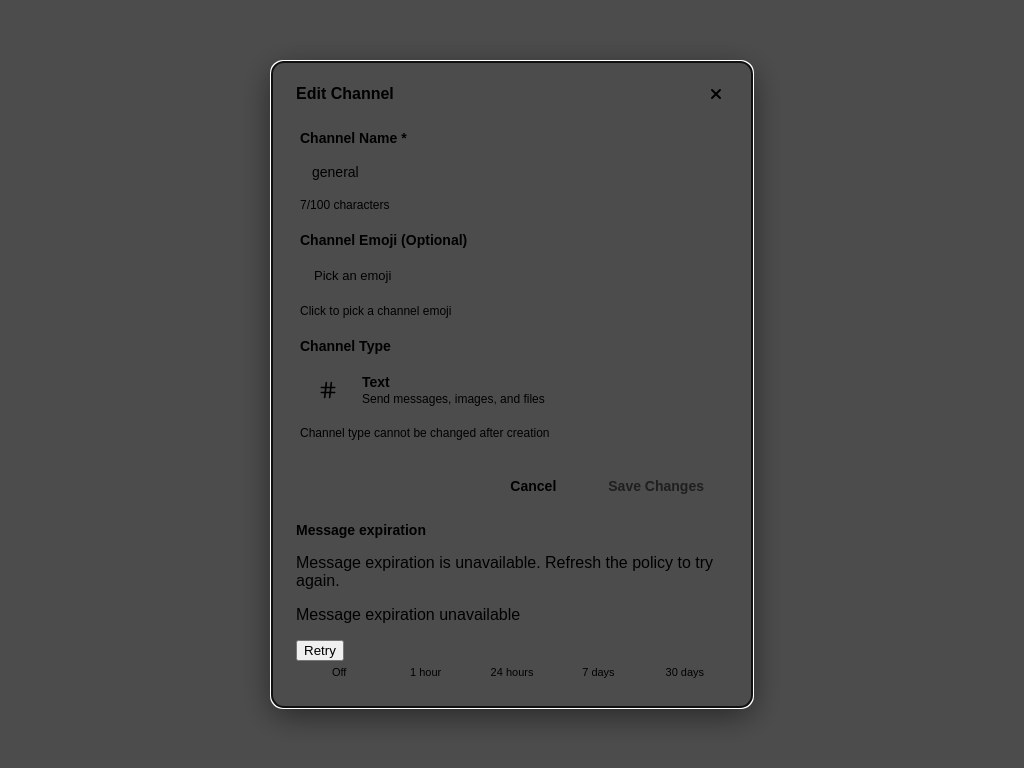
Test: EditChannelModal › shows error on API failure
This screenshot has width=1024, height=768.
Replace the text in the field showing "general" with "new-name": coordinates (512, 172) [300, 154, 724, 190]
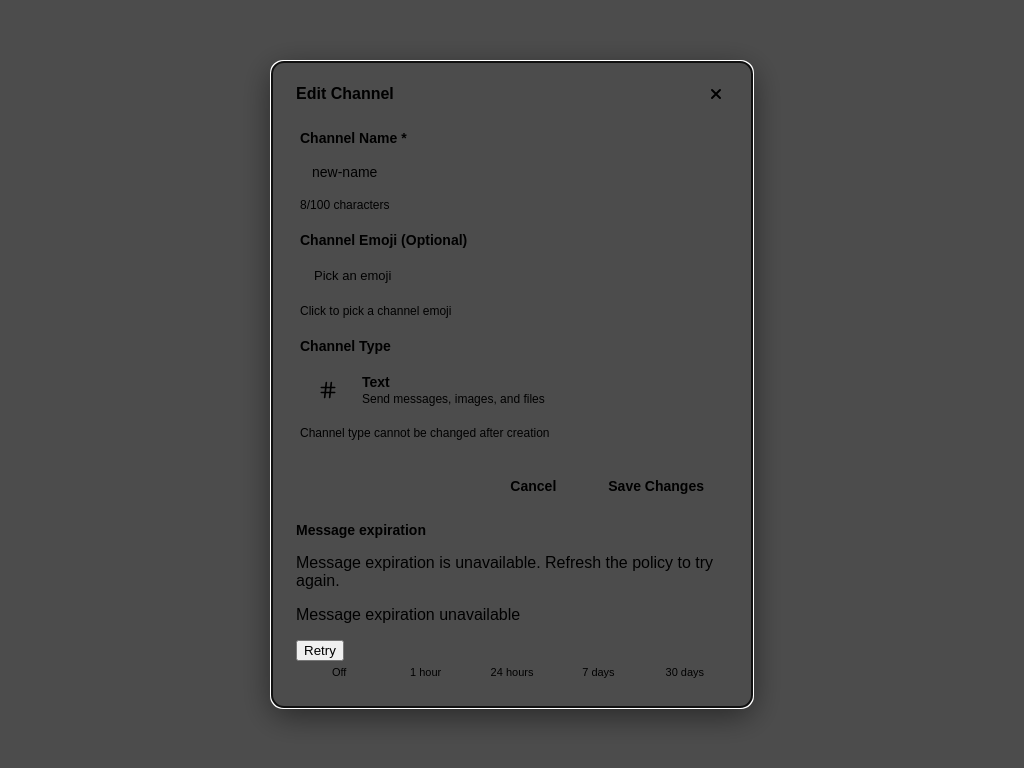
Click the button "Save Changes": coordinates (656, 486) [588, 468, 724, 504]
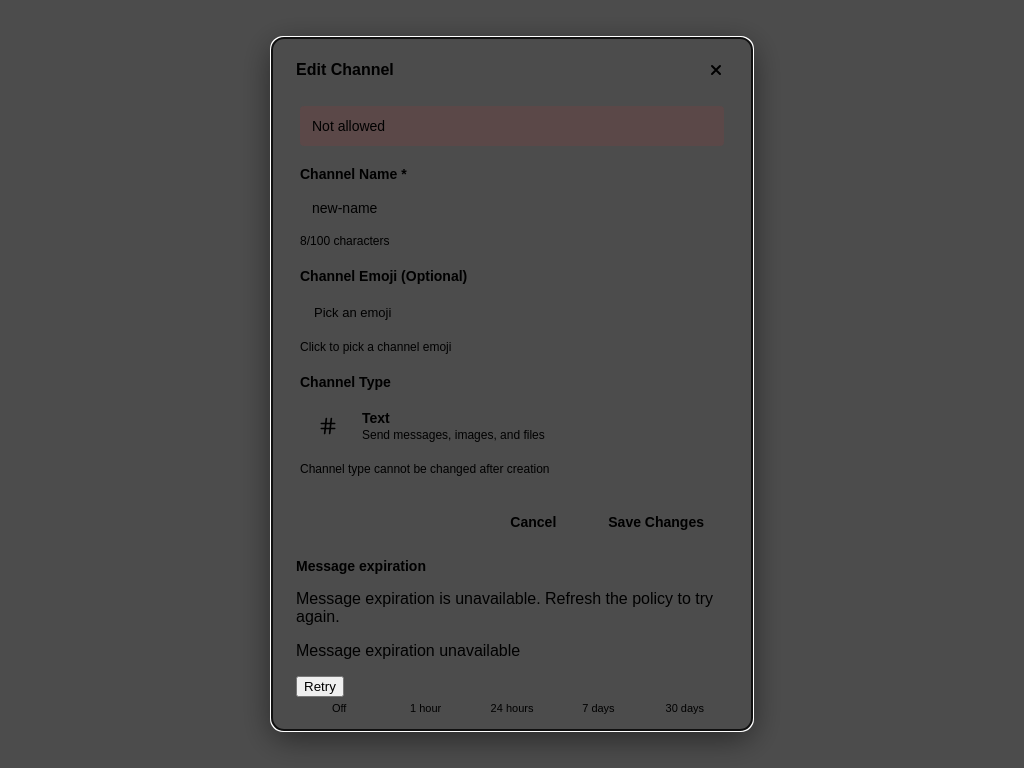
Expected: the text "Not allowed" is shown, [300, 106, 724, 146]
